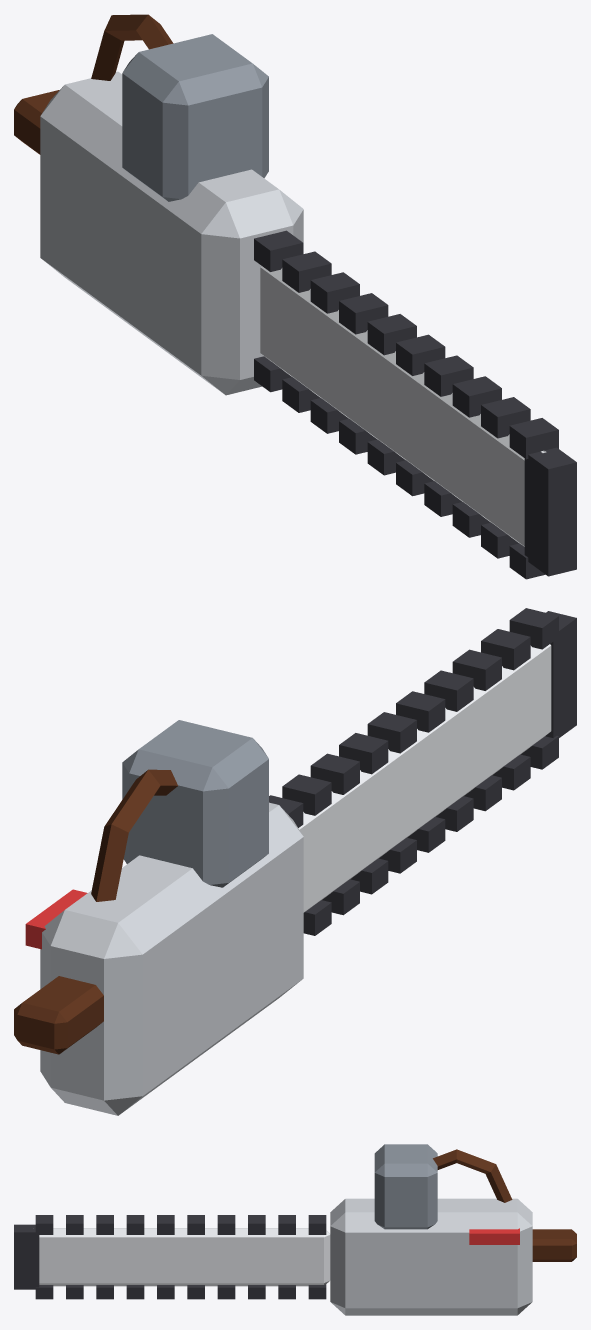
Rendered from IronChainsaw.fbx.
3 views of the same model, one above another, from view 1: azimuth 30°, elevation 25°; view 2: azimuth 150°, elevation 25°; view 3: azimuth 270°, elevation 25° (orthographic). The views are drawn at different scales.
Visible parts, largest first — view 1: IronChainsaw; view 2: IronChainsaw; view 3: IronChainsaw.
Boxes of the visible parts, box(x1,y1,x2,y2) form: IronChainsaw: box(14, 14, 576, 579); IronChainsaw: box(14, 608, 576, 1115); IronChainsaw: box(14, 1144, 576, 1315).
Bounding box in the file's own units: 0.57 × 1.39 × 4.45.
1 material, 1 textured.
